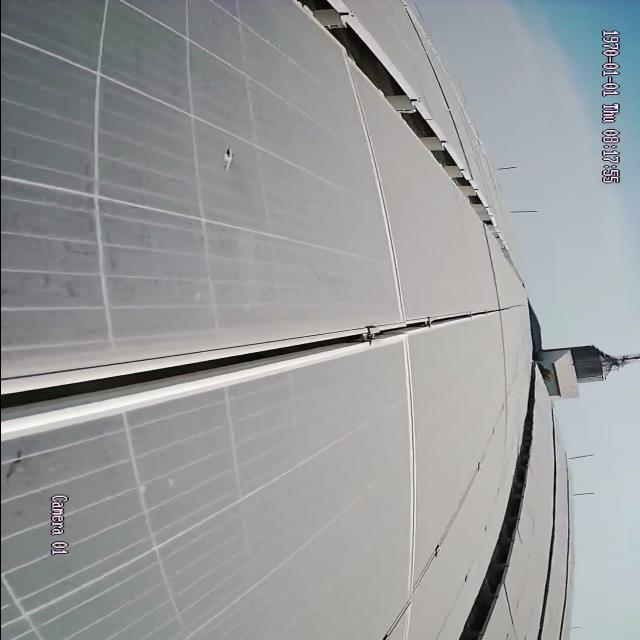interior panel: (4, 304, 521, 437), (340, 55, 414, 315), (397, 333, 421, 636)
outher panel: (291, 3, 508, 255), (453, 391, 535, 638)
